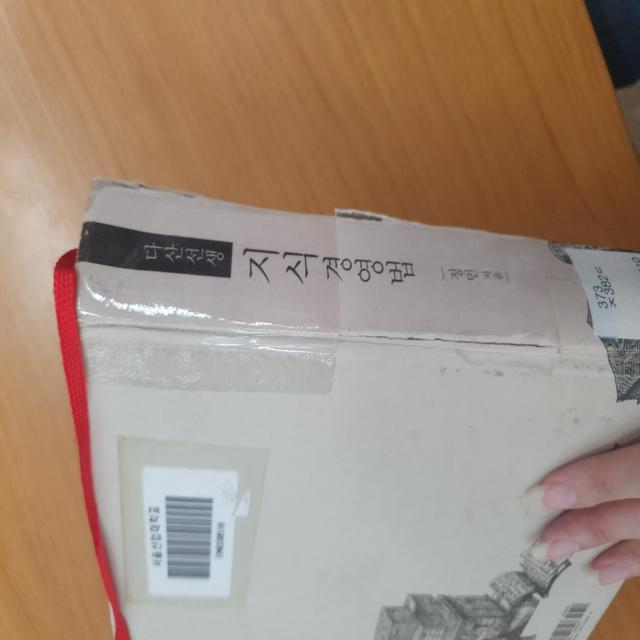Ripped: (73, 299, 558, 367), (81, 169, 526, 239)
